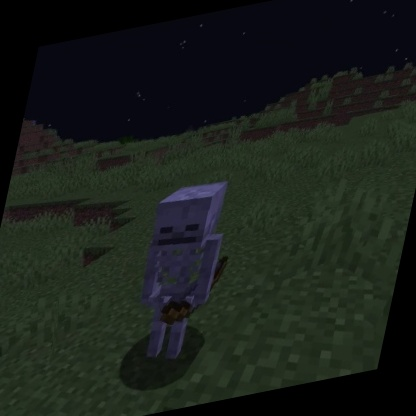skeleton: (118, 171, 249, 373)
